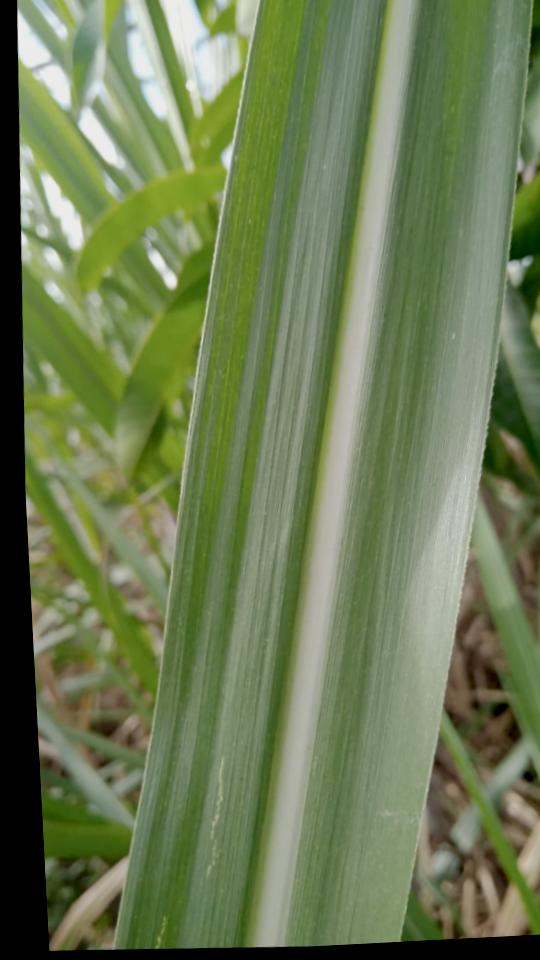Healthy: (112, 0, 531, 949)
